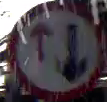Two way: (6, 0, 102, 100)
